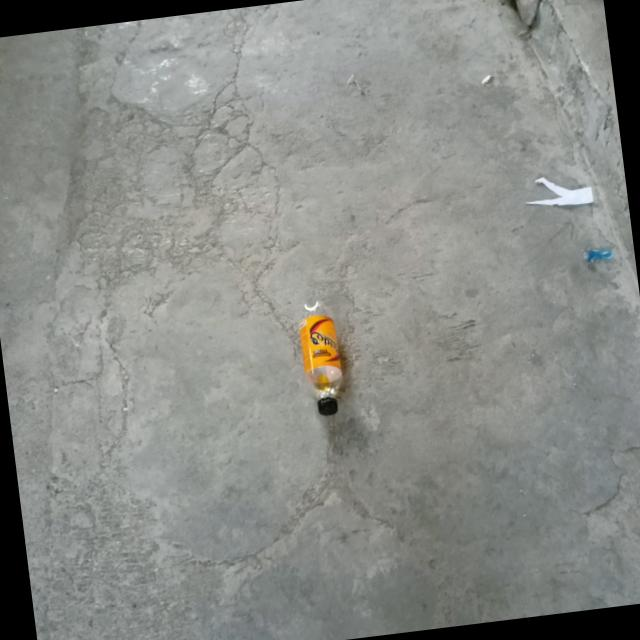Bottle: (296, 301, 342, 415)
